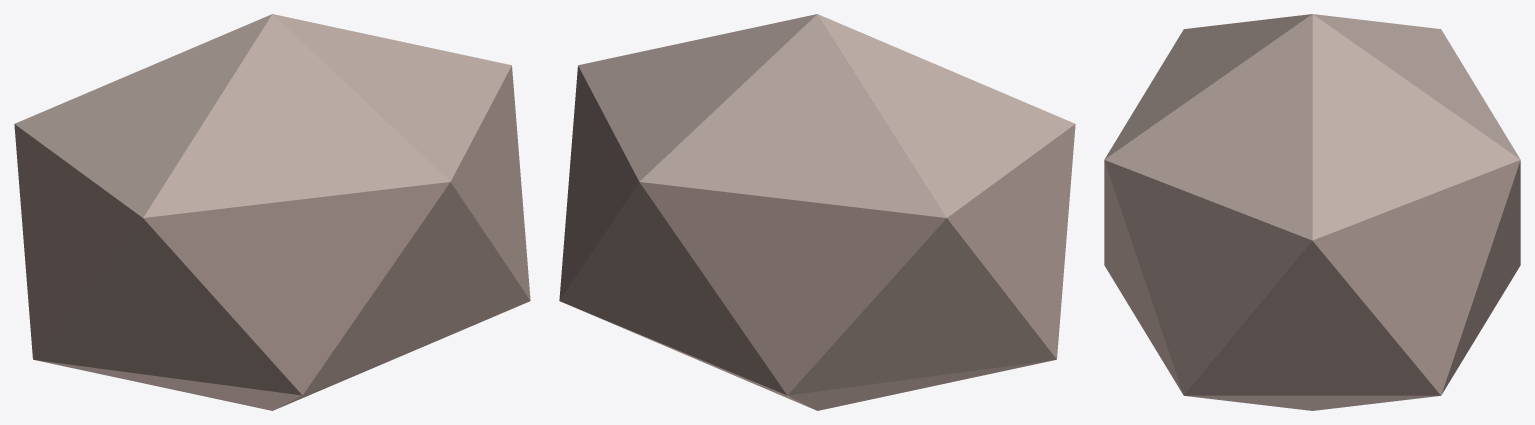
Rendered from path_pebble_small_01.glb.
The picture shows the model from 3 angles, left to right: view 1: azimuth 30°, elevation 25°; view 2: azimuth 150°, elevation 25°; view 3: azimuth 270°, elevation 25°; orthographic projection.
Visible parts, largest first — view 1: path_pebble_small_01; view 2: path_pebble_small_01; view 3: path_pebble_small_01.
Part boxes in pixels (x1,y1,x2,y2): path_pebble_small_01: [14, 14, 530, 410]; path_pebble_small_01: [559, 14, 1075, 410]; path_pebble_small_01: [1104, 14, 1520, 410].
Bounding box in the file's own units: 0.0751 × 0.0595 × 0.0566.
